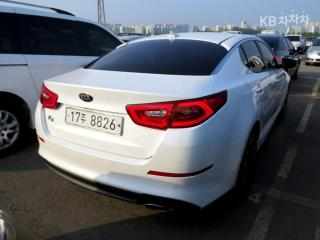1: (70, 110, 75, 122)
2: (102, 117, 110, 130)
6: (110, 117, 117, 132)
7: (75, 110, 81, 123)
8: (96, 115, 103, 128), (90, 114, 96, 127)
주: (81, 113, 86, 123)
